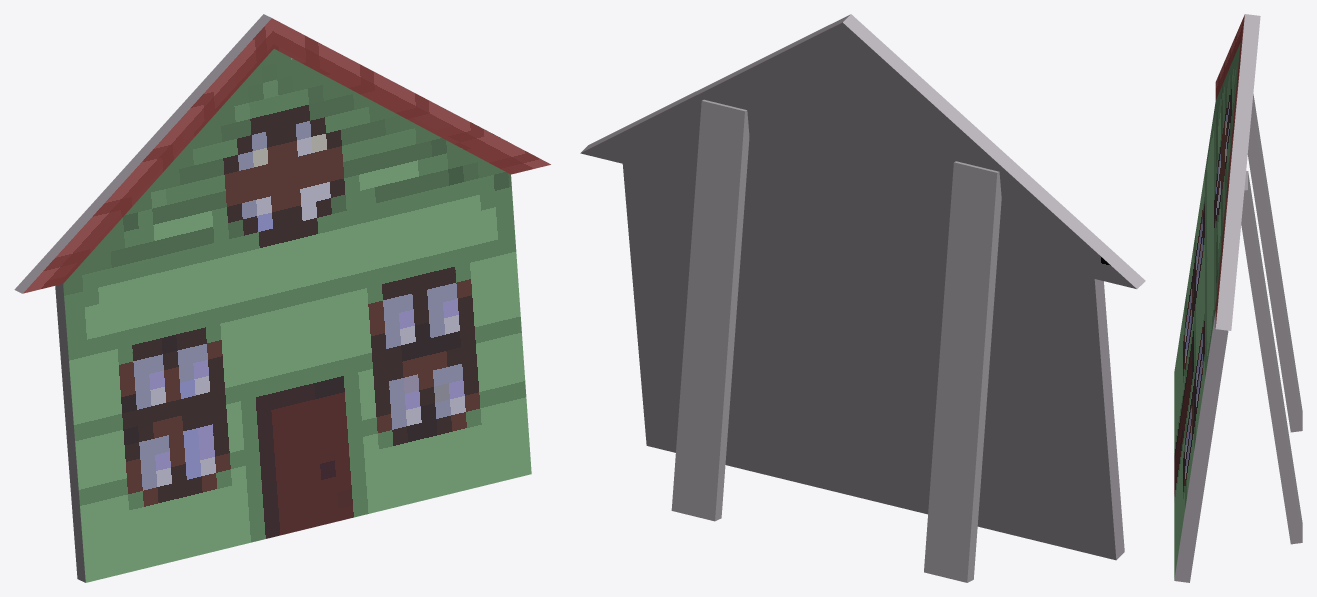
Rendered from FakeHome004.fbx.
3 views of the same model, side by side, from view 1: azimuth 30°, elevation 25°; view 2: azimuth 150°, elevation 25°; view 3: azimuth 270°, elevation 25° (orthographic). The views are drawn at different scales.
Visible parts, largest first — view 1: Cube.010; view 2: Cube.010; view 3: Cube.010.
Part boxes in pixels (box(x1,y1,x2,y2)): Cube.010: box(14, 14, 550, 582); Cube.010: box(580, 14, 1145, 582); Cube.010: box(1174, 14, 1302, 582).
Size of the model in its own units: 616 by 540 by 135.
1 material, 1 textured.
